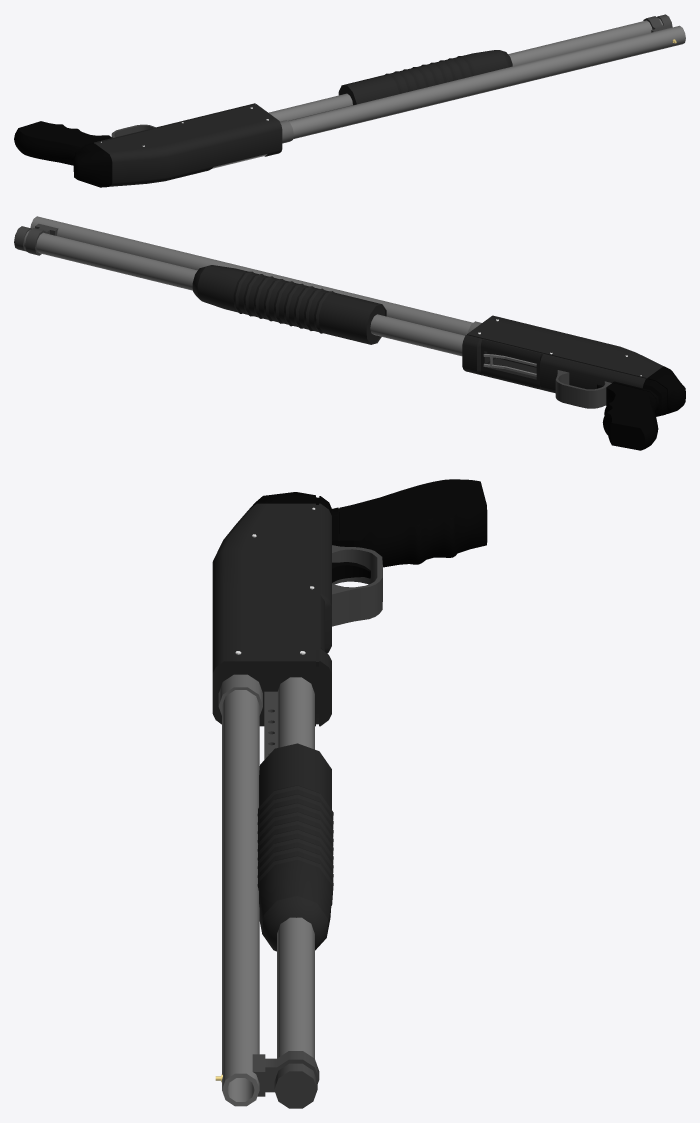
File: maverick_88.glb
3 renders of one model, top to bottom at view 1: azimuth 30°, elevation 25°; view 2: azimuth 150°, elevation 25°; view 3: azimuth 270°, elevation 25°, orthographic. The views are drawn at different scales.
Visible parts, largest first — view 1: Maverick_88; view 2: Maverick_88; view 3: Maverick_88.
Part boxes in pixels (<box>): Maverick_88: <box>14,14,685,187</box>; Maverick_88: <box>14,216,685,450</box>; Maverick_88: <box>212,479,487,1108</box>.
Size of the model in its own units: 36.12 by 2.04 by 7.05.
2 materials, 2 textured.
